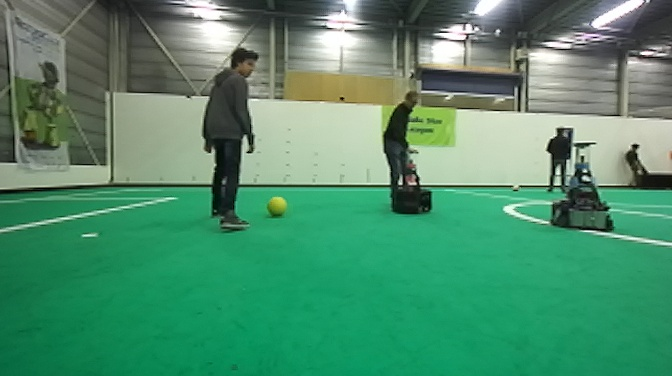ball: (265, 194, 288, 218), (509, 182, 522, 193)
human: (200, 43, 259, 230), (380, 89, 422, 201), (544, 125, 573, 195), (623, 140, 649, 188)
robot: (548, 139, 616, 234), (389, 148, 434, 216)
